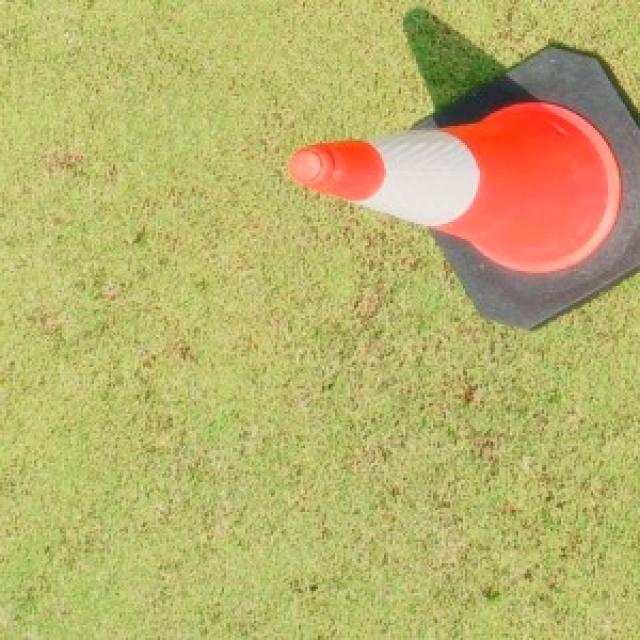cone: (290, 43, 640, 326)
